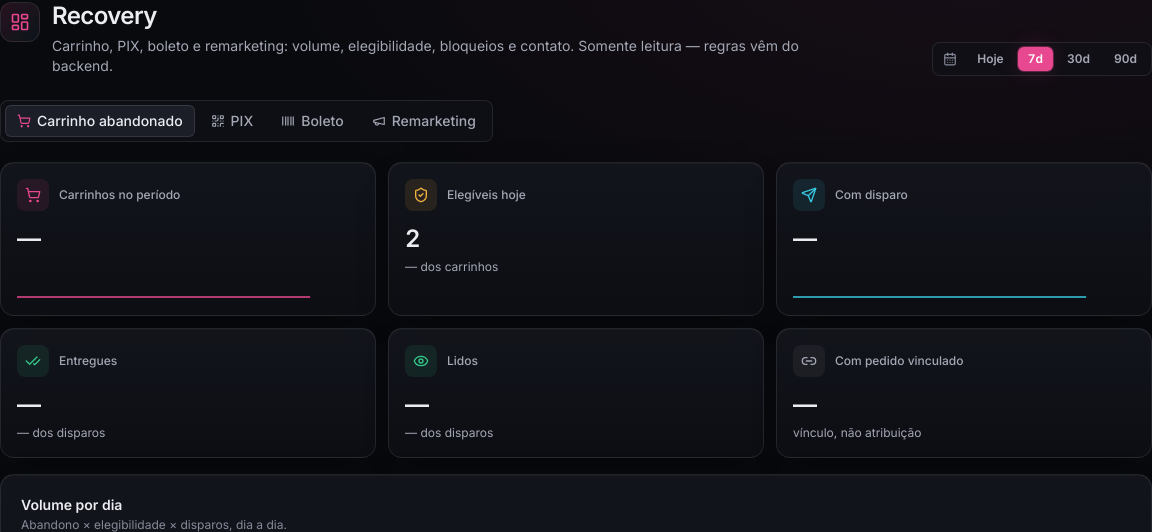
Test case: RecoveryPage › aba PIX mostra status de pagamento e motivo do backend
This screenshot has width=1152, height=532.
Click the tab "PIX" at {"x": 232, "y": 121}, box [199, 105, 265, 137]
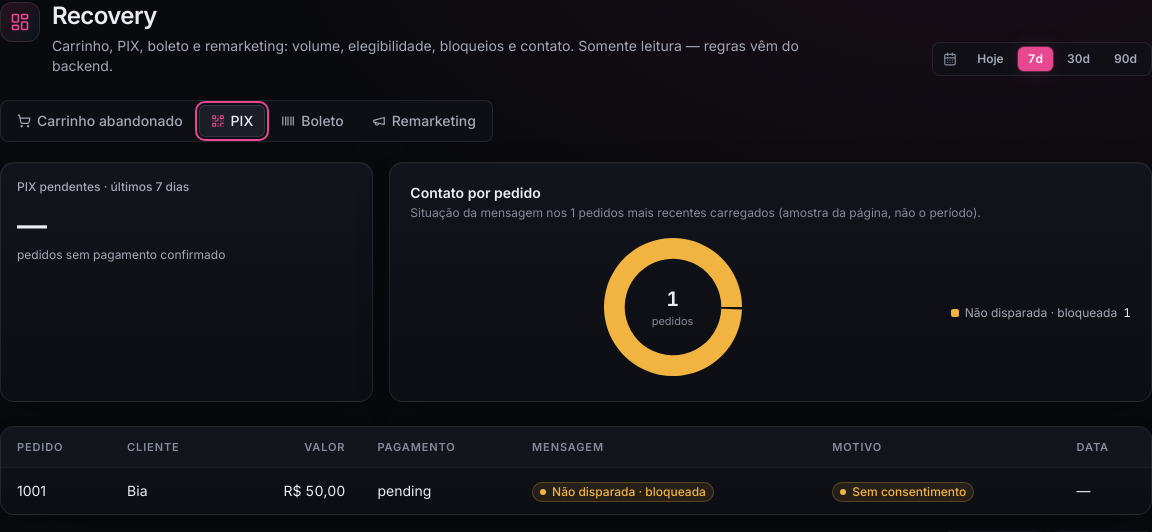
Check: the text "1001" is shown, box [1, 468, 111, 514]
Check: the text "Não disparada · bloqueada" is shown, box [965, 305, 1117, 321]
Check: the element titled "CONSENT_BLOCK" reads "Sem consentimento", box [852, 484, 966, 499]
